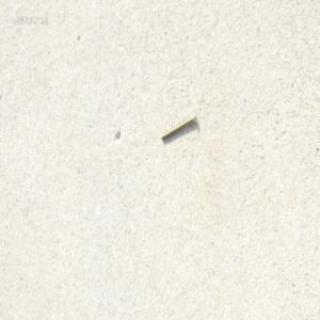Bolttrack_idkeyframe: (160, 110, 196, 141)
